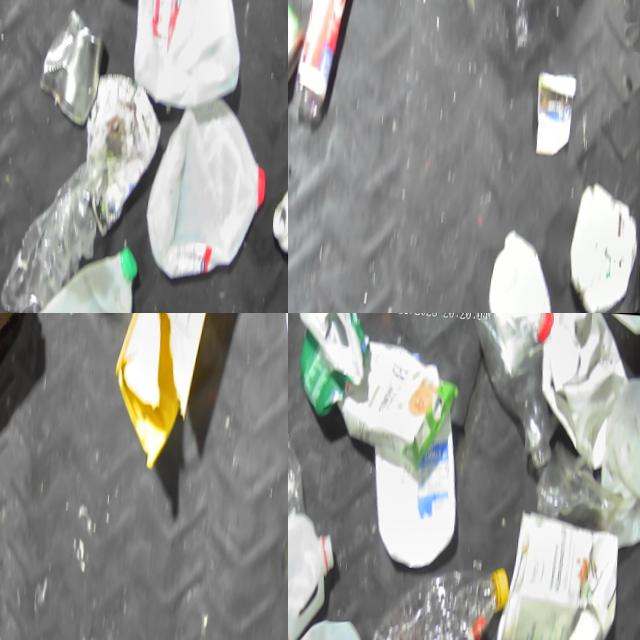can: (36, 0, 106, 129), (268, 164, 288, 261), (288, 0, 309, 91)
milk_jug: (141, 90, 271, 291), (522, 313, 629, 467), (123, 0, 251, 111), (24, 229, 149, 313), (480, 222, 559, 313), (288, 506, 341, 640)
non_white_jug: (465, 313, 566, 473)
plastic_bottle: (0, 146, 105, 313), (367, 546, 511, 640), (291, 0, 358, 124)
